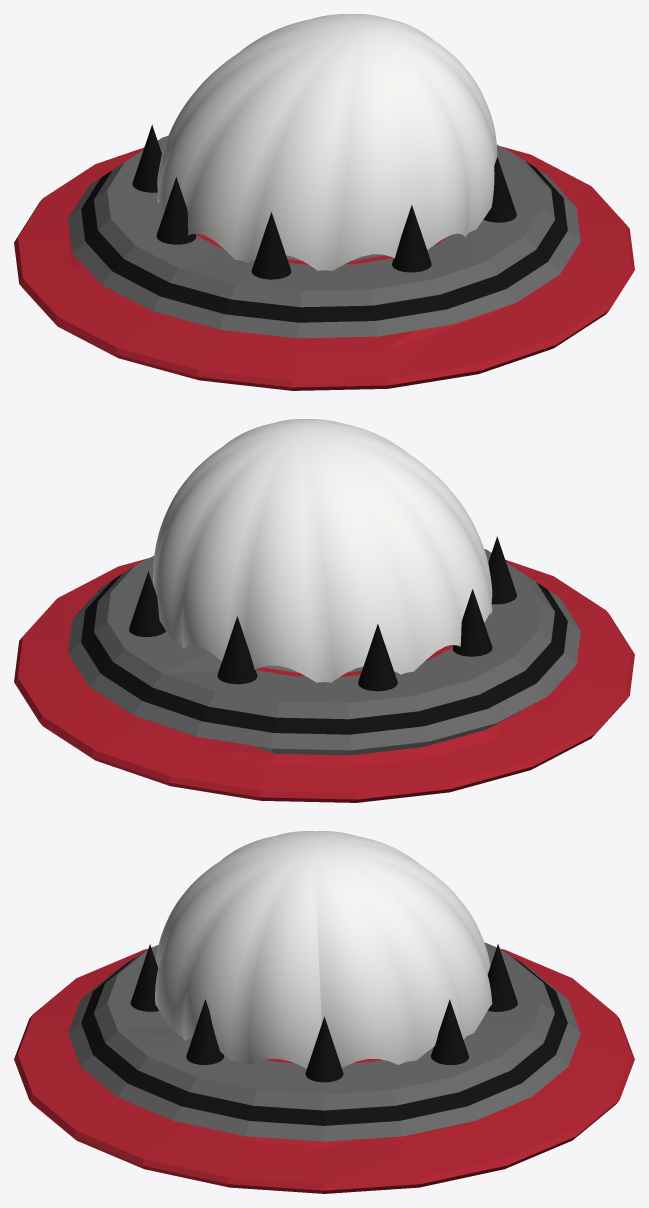
The model's file is opus55_t02.glb.
The picture shows the model from 3 angles, top to bottom: view 1: azimuth 30°, elevation 25°; view 2: azimuth 150°, elevation 25°; view 3: azimuth 270°, elevation 25°; orthographic projection.
Parts seen in each view (by area): view 1: slot_anchor_saucer, canopy; view 2: slot_anchor_saucer, canopy; view 3: slot_anchor_saucer, canopy.
Part boxes in pixels (x1,y1,x2,y2): slot_anchor_saucer: (14, 124, 634, 390); canopy: (157, 14, 497, 270); slot_anchor_saucer: (14, 536, 634, 802); canopy: (153, 419, 492, 682); slot_anchor_saucer: (14, 942, 634, 1193); canopy: (155, 831, 492, 1068).
Bounding box in the file's own units: 2 × 1.13 × 2.
2 materials, 1 textured.
